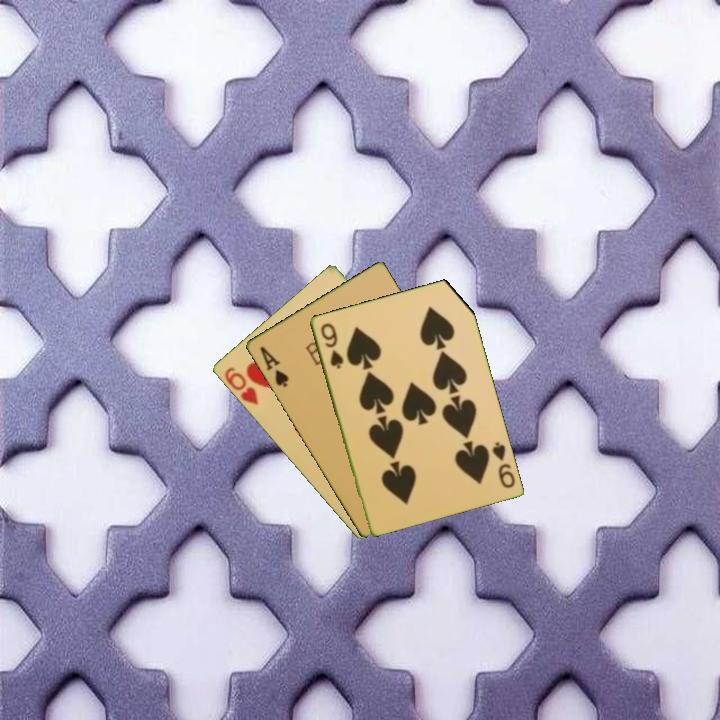6h: (220, 363, 261, 408)
9s: (488, 438, 518, 491), (317, 319, 346, 371)
As: (256, 342, 291, 390)
